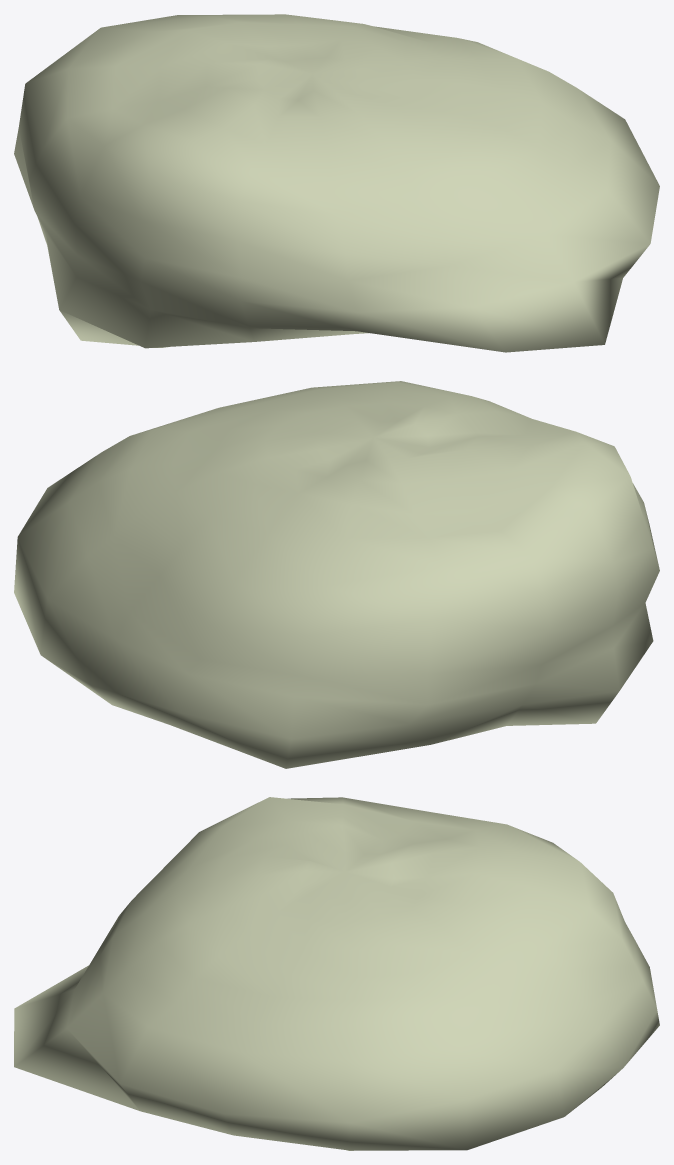
Rendered from mAsteroid3_coll.obj.
The picture shows the model from 3 angles, top to bottom: view 1: azimuth 30°, elevation 25°; view 2: azimuth 150°, elevation 25°; view 3: azimuth 270°, elevation 25°; orthographic projection. The views are drawn at different scales.
Parts seen in each view (by area): view 1: sphere1; view 2: sphere1; view 3: sphere1.
Boxes of the visible parts, x1,y1,x2,y2 form: sphere1: (14, 14, 659, 352); sphere1: (14, 381, 659, 768); sphere1: (14, 797, 659, 1150).
Bounding box in the file's own units: 8.17 × 3.32 × 9.02.
